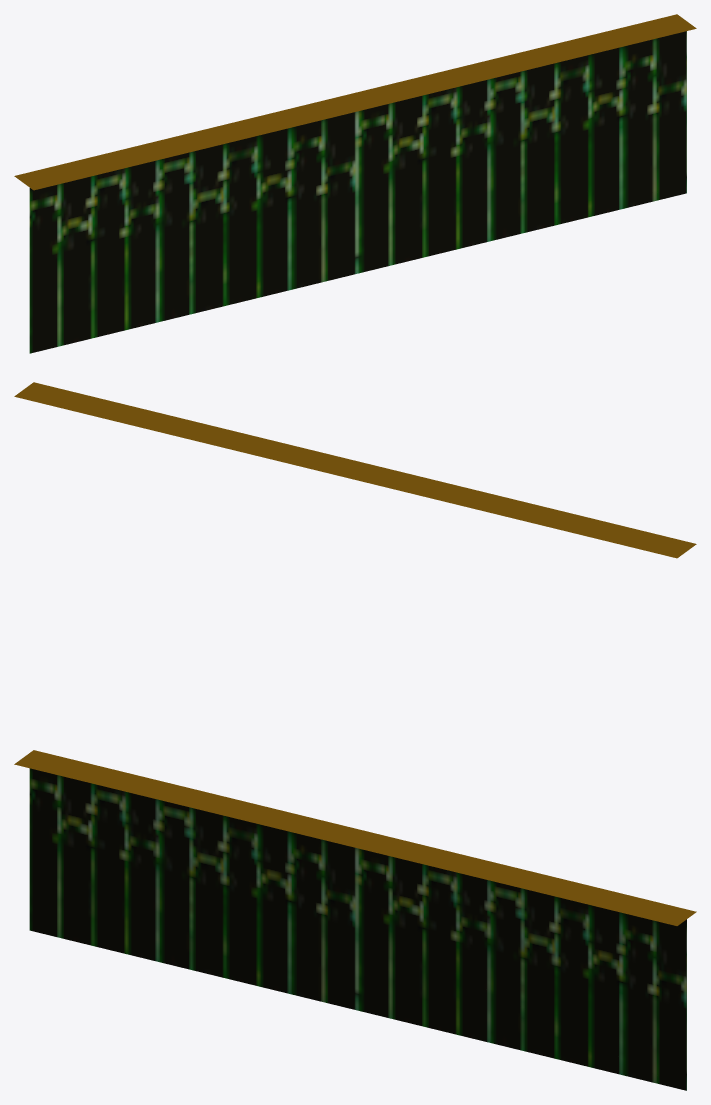
File: Geländer2_Hoch [GrünesMetallHoch]_1873.glb
3 renders of one model, top to bottom at view 1: azimuth 30°, elevation 25°; view 2: azimuth 150°, elevation 25°; view 3: azimuth 330°, elevation 25°, orthographic.
Visible parts, largest first — view 1: pPlaneShape223, pPlaneShape224; view 2: pPlaneShape224; view 3: pPlaneShape223, pPlaneShape224.
Part boxes in pixels (x1,y1,x2,y2): pPlaneShape223: [29, 31, 686, 353]; pPlaneShape224: [14, 14, 696, 190]; pPlaneShape224: [14, 382, 696, 558]; pPlaneShape223: [29, 768, 686, 1090]; pPlaneShape224: [14, 750, 696, 925].
Size of the model in its own units: 0.4724 by 0.117 by 0.0243.
2 materials, 1 textured.
